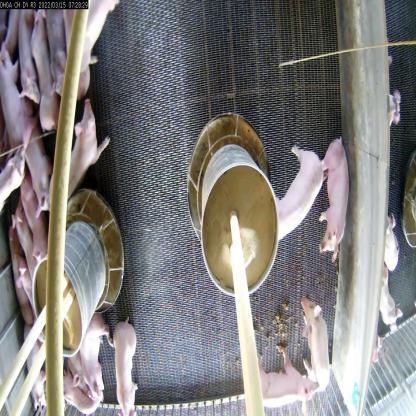Pig: (267, 133, 326, 249), (47, 100, 105, 216), (297, 290, 338, 412), (20, 183, 56, 296), (22, 14, 62, 114), (321, 134, 350, 263), (266, 356, 316, 416), (116, 304, 142, 416), (81, 0, 116, 73), (0, 134, 28, 205), (79, 316, 100, 409), (63, 365, 96, 415)
